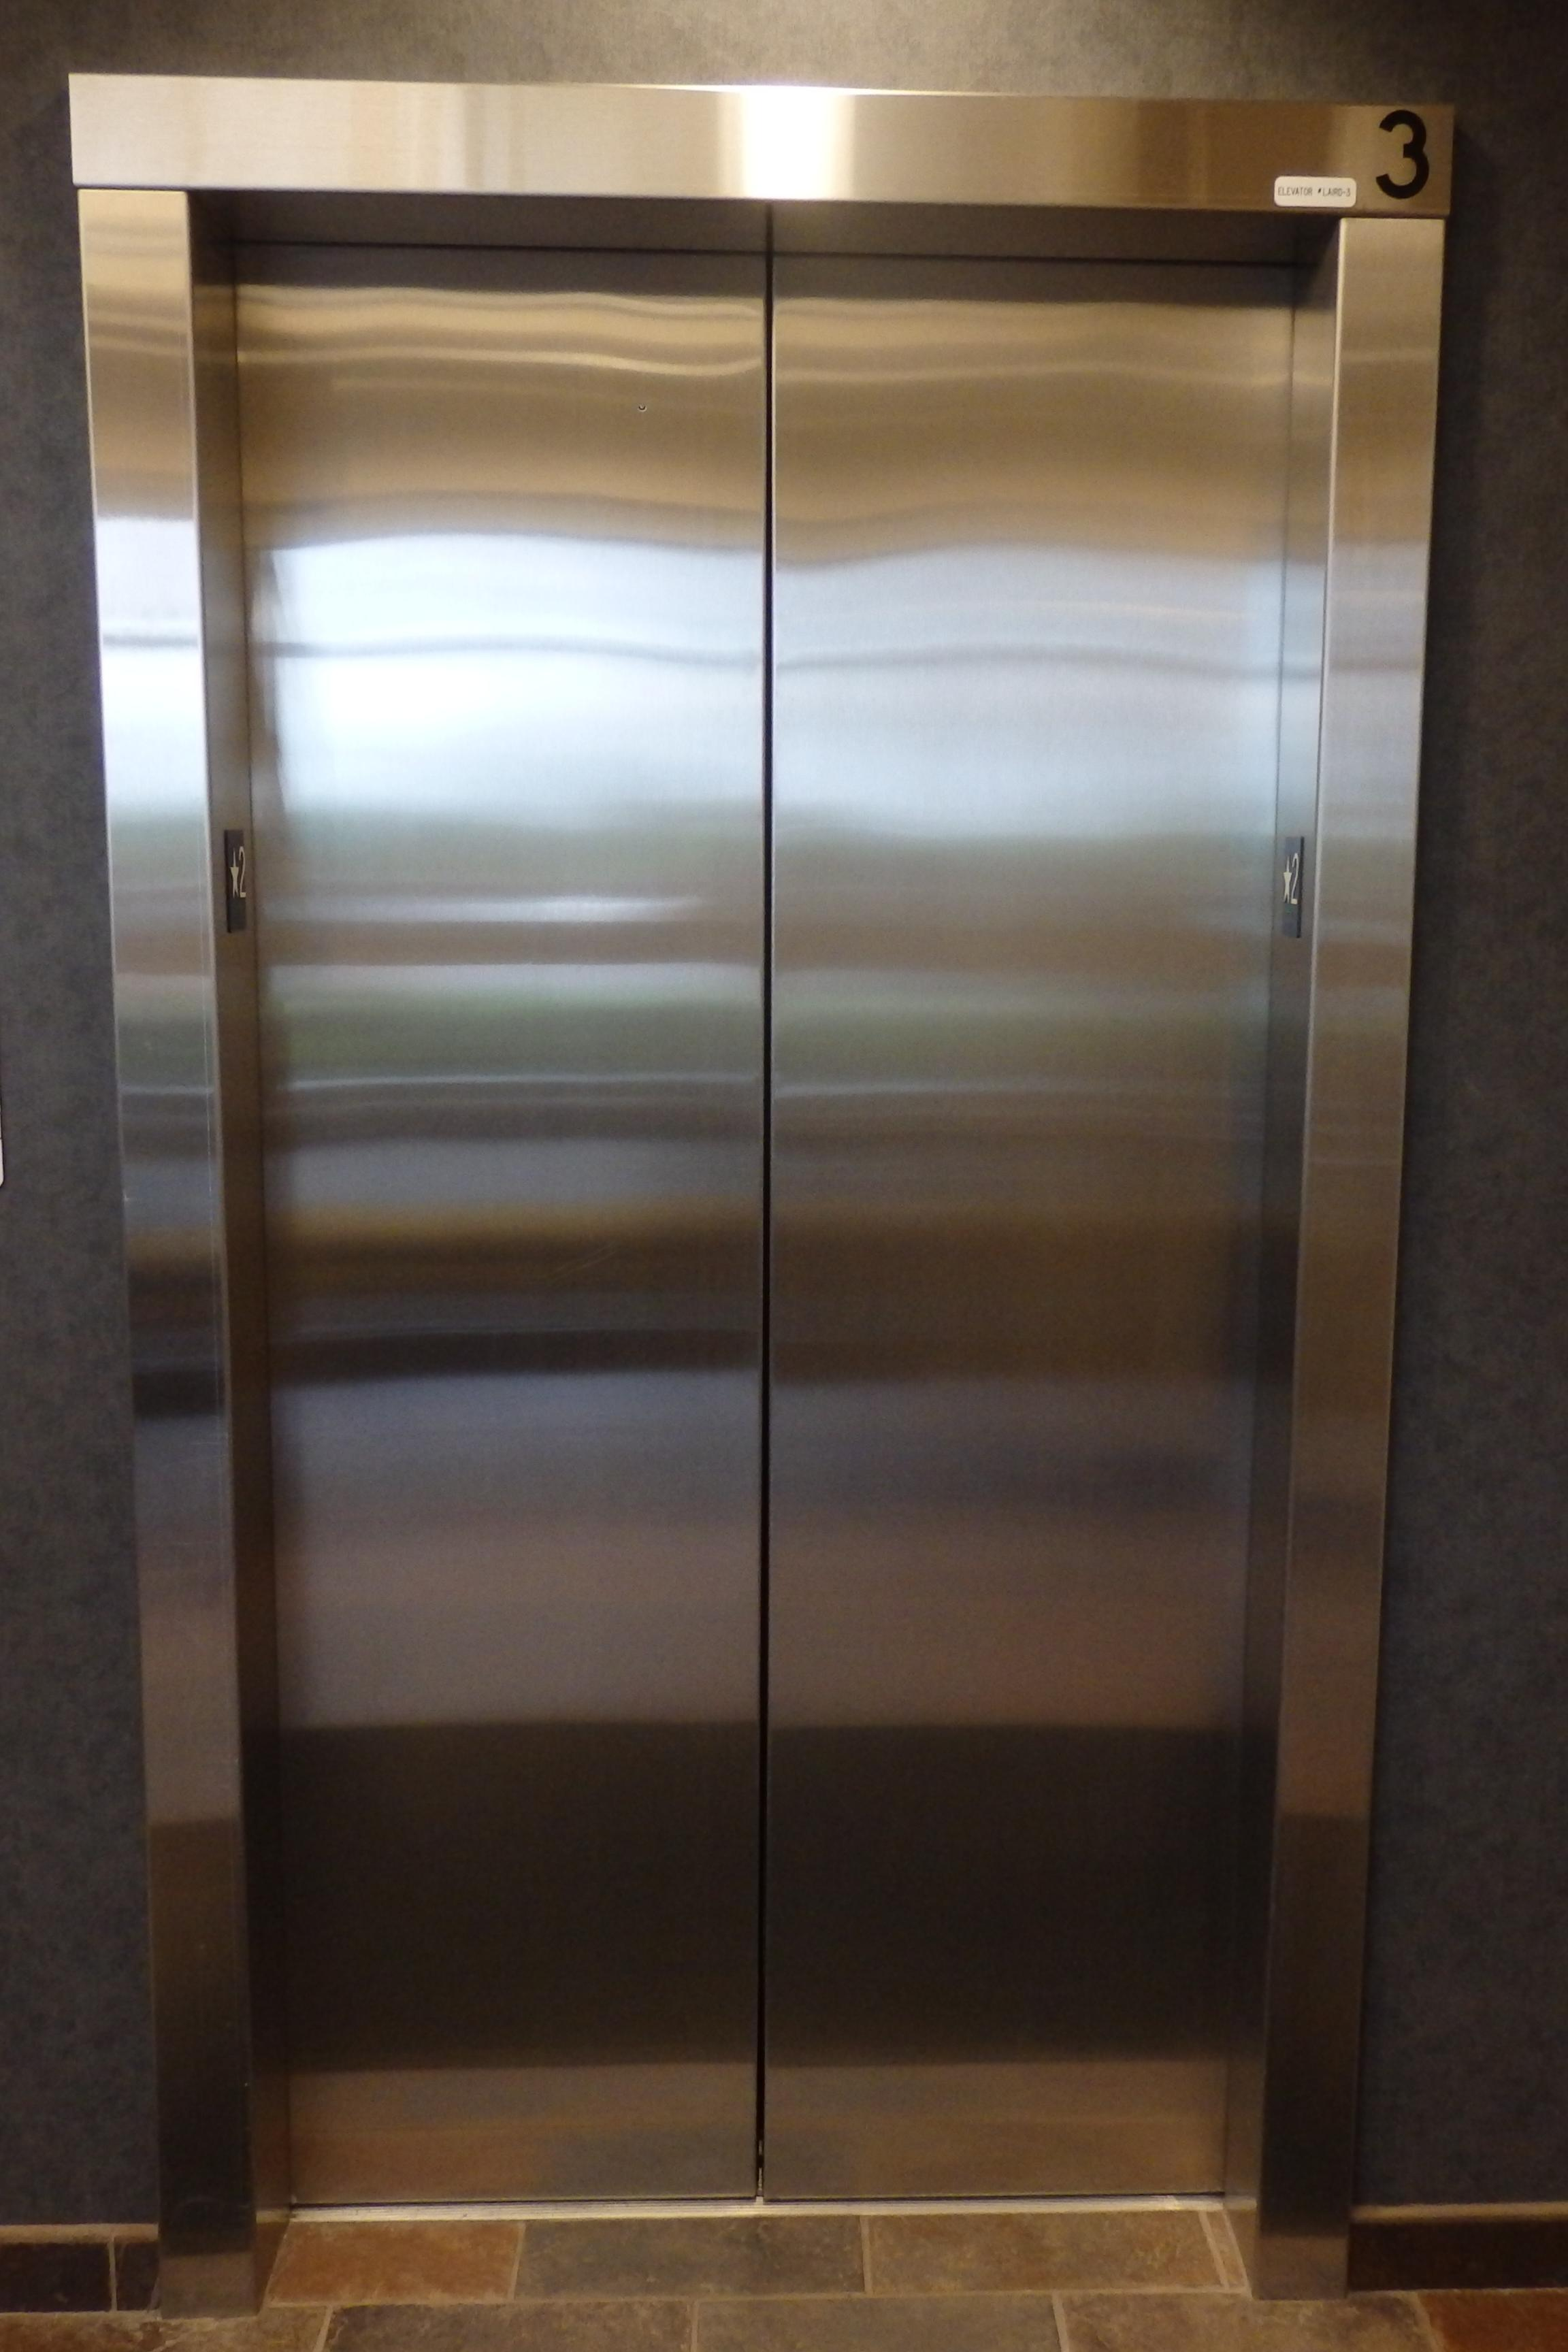door: (163, 159, 1283, 2189)
